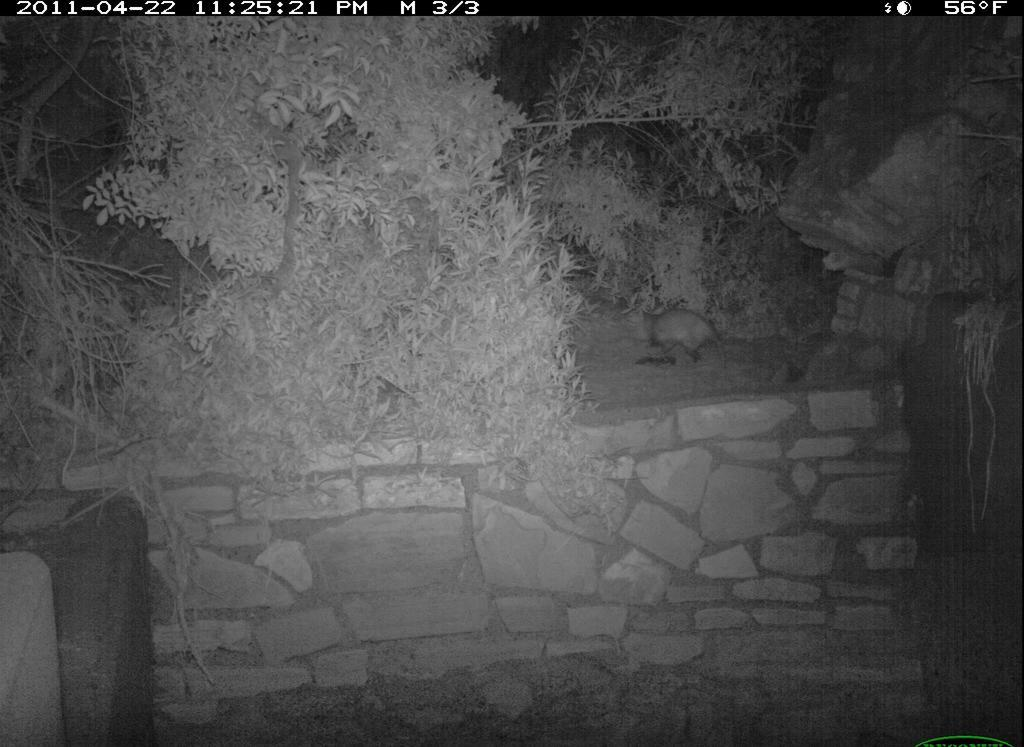opossum: (644, 305, 735, 383)
